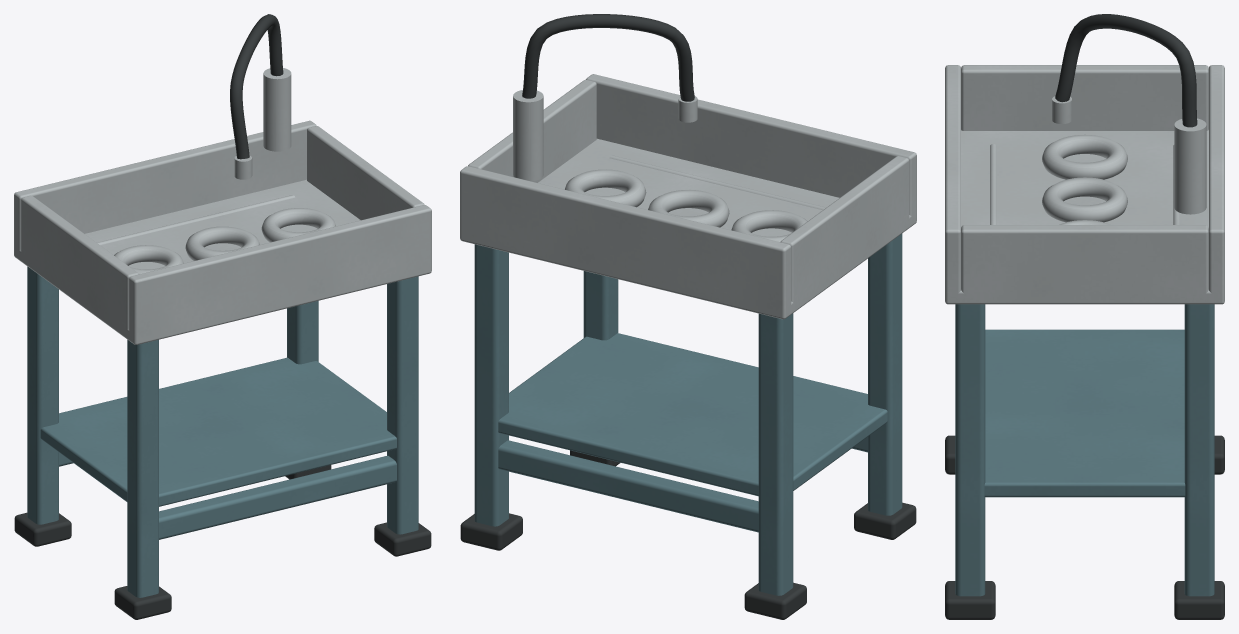
Rendered from gorgehold-survivor-gallery-and-operations-recovered-be-aaa5c8dc__32861.glb.
3 renders of one model, left to right at view 1: azimuth 30°, elevation 25°; view 2: azimuth 150°, elevation 25°; view 3: azimuth 270°, elevation 25°, orthographic. The views are drawn at different scales.
Parts seen in each view (by area): view 1: recovered-bearing-cleaning-station; view 2: recovered-bearing-cleaning-station; view 3: recovered-bearing-cleaning-station.
Part boxes in pixels (x1,y1,x2,y2): recovered-bearing-cleaning-station: (14, 14, 431, 619); recovered-bearing-cleaning-station: (460, 14, 916, 619); recovered-bearing-cleaning-station: (945, 14, 1224, 619).
Size of the model in its own units: 0.86 by 1.32 by 0.61.
3 materials, 2 textured.
